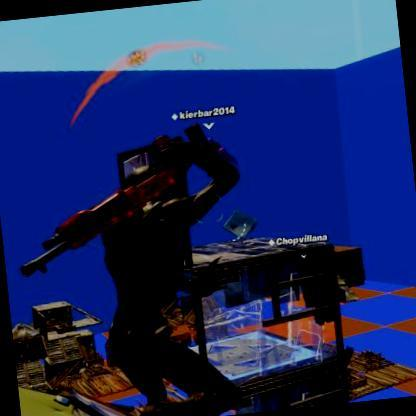person: (94, 164, 227, 416)
